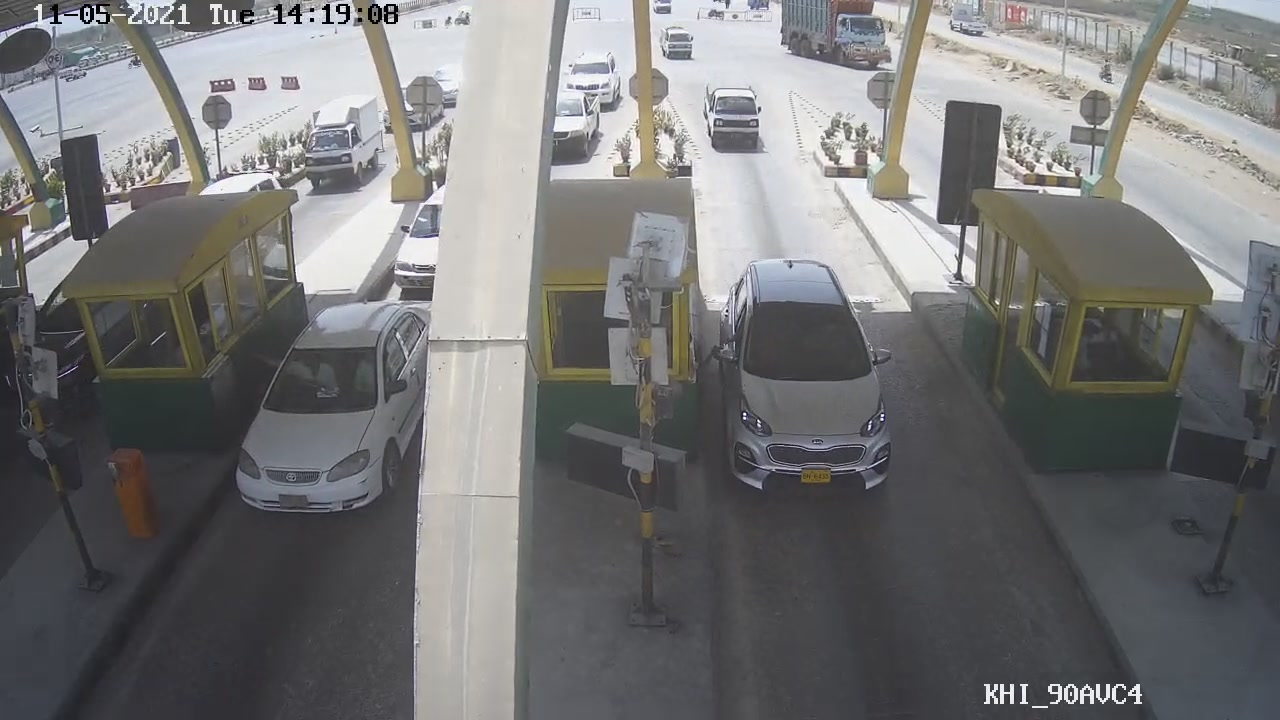F1: (712, 257, 898, 502)
